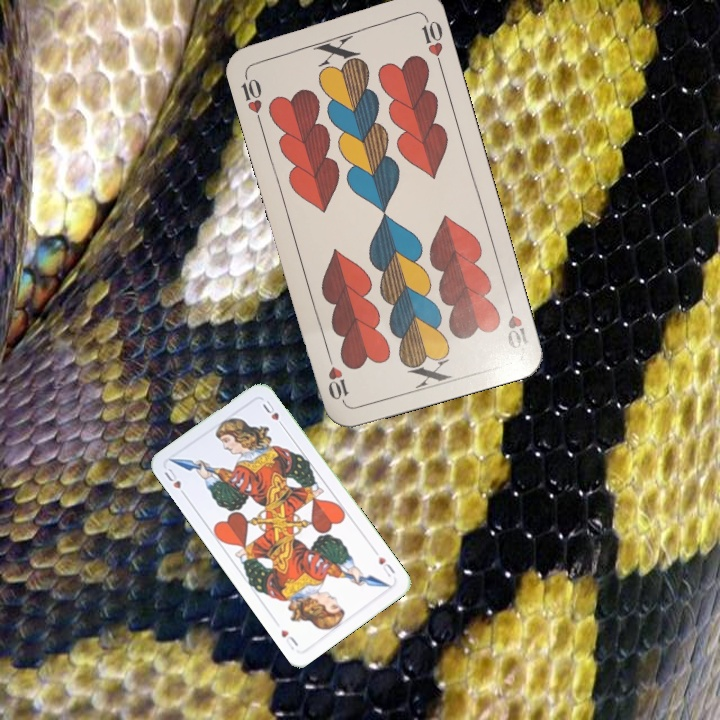H10: (236, 68, 265, 126), (503, 294, 530, 351)
HU: (160, 464, 190, 500), (374, 552, 398, 580)
